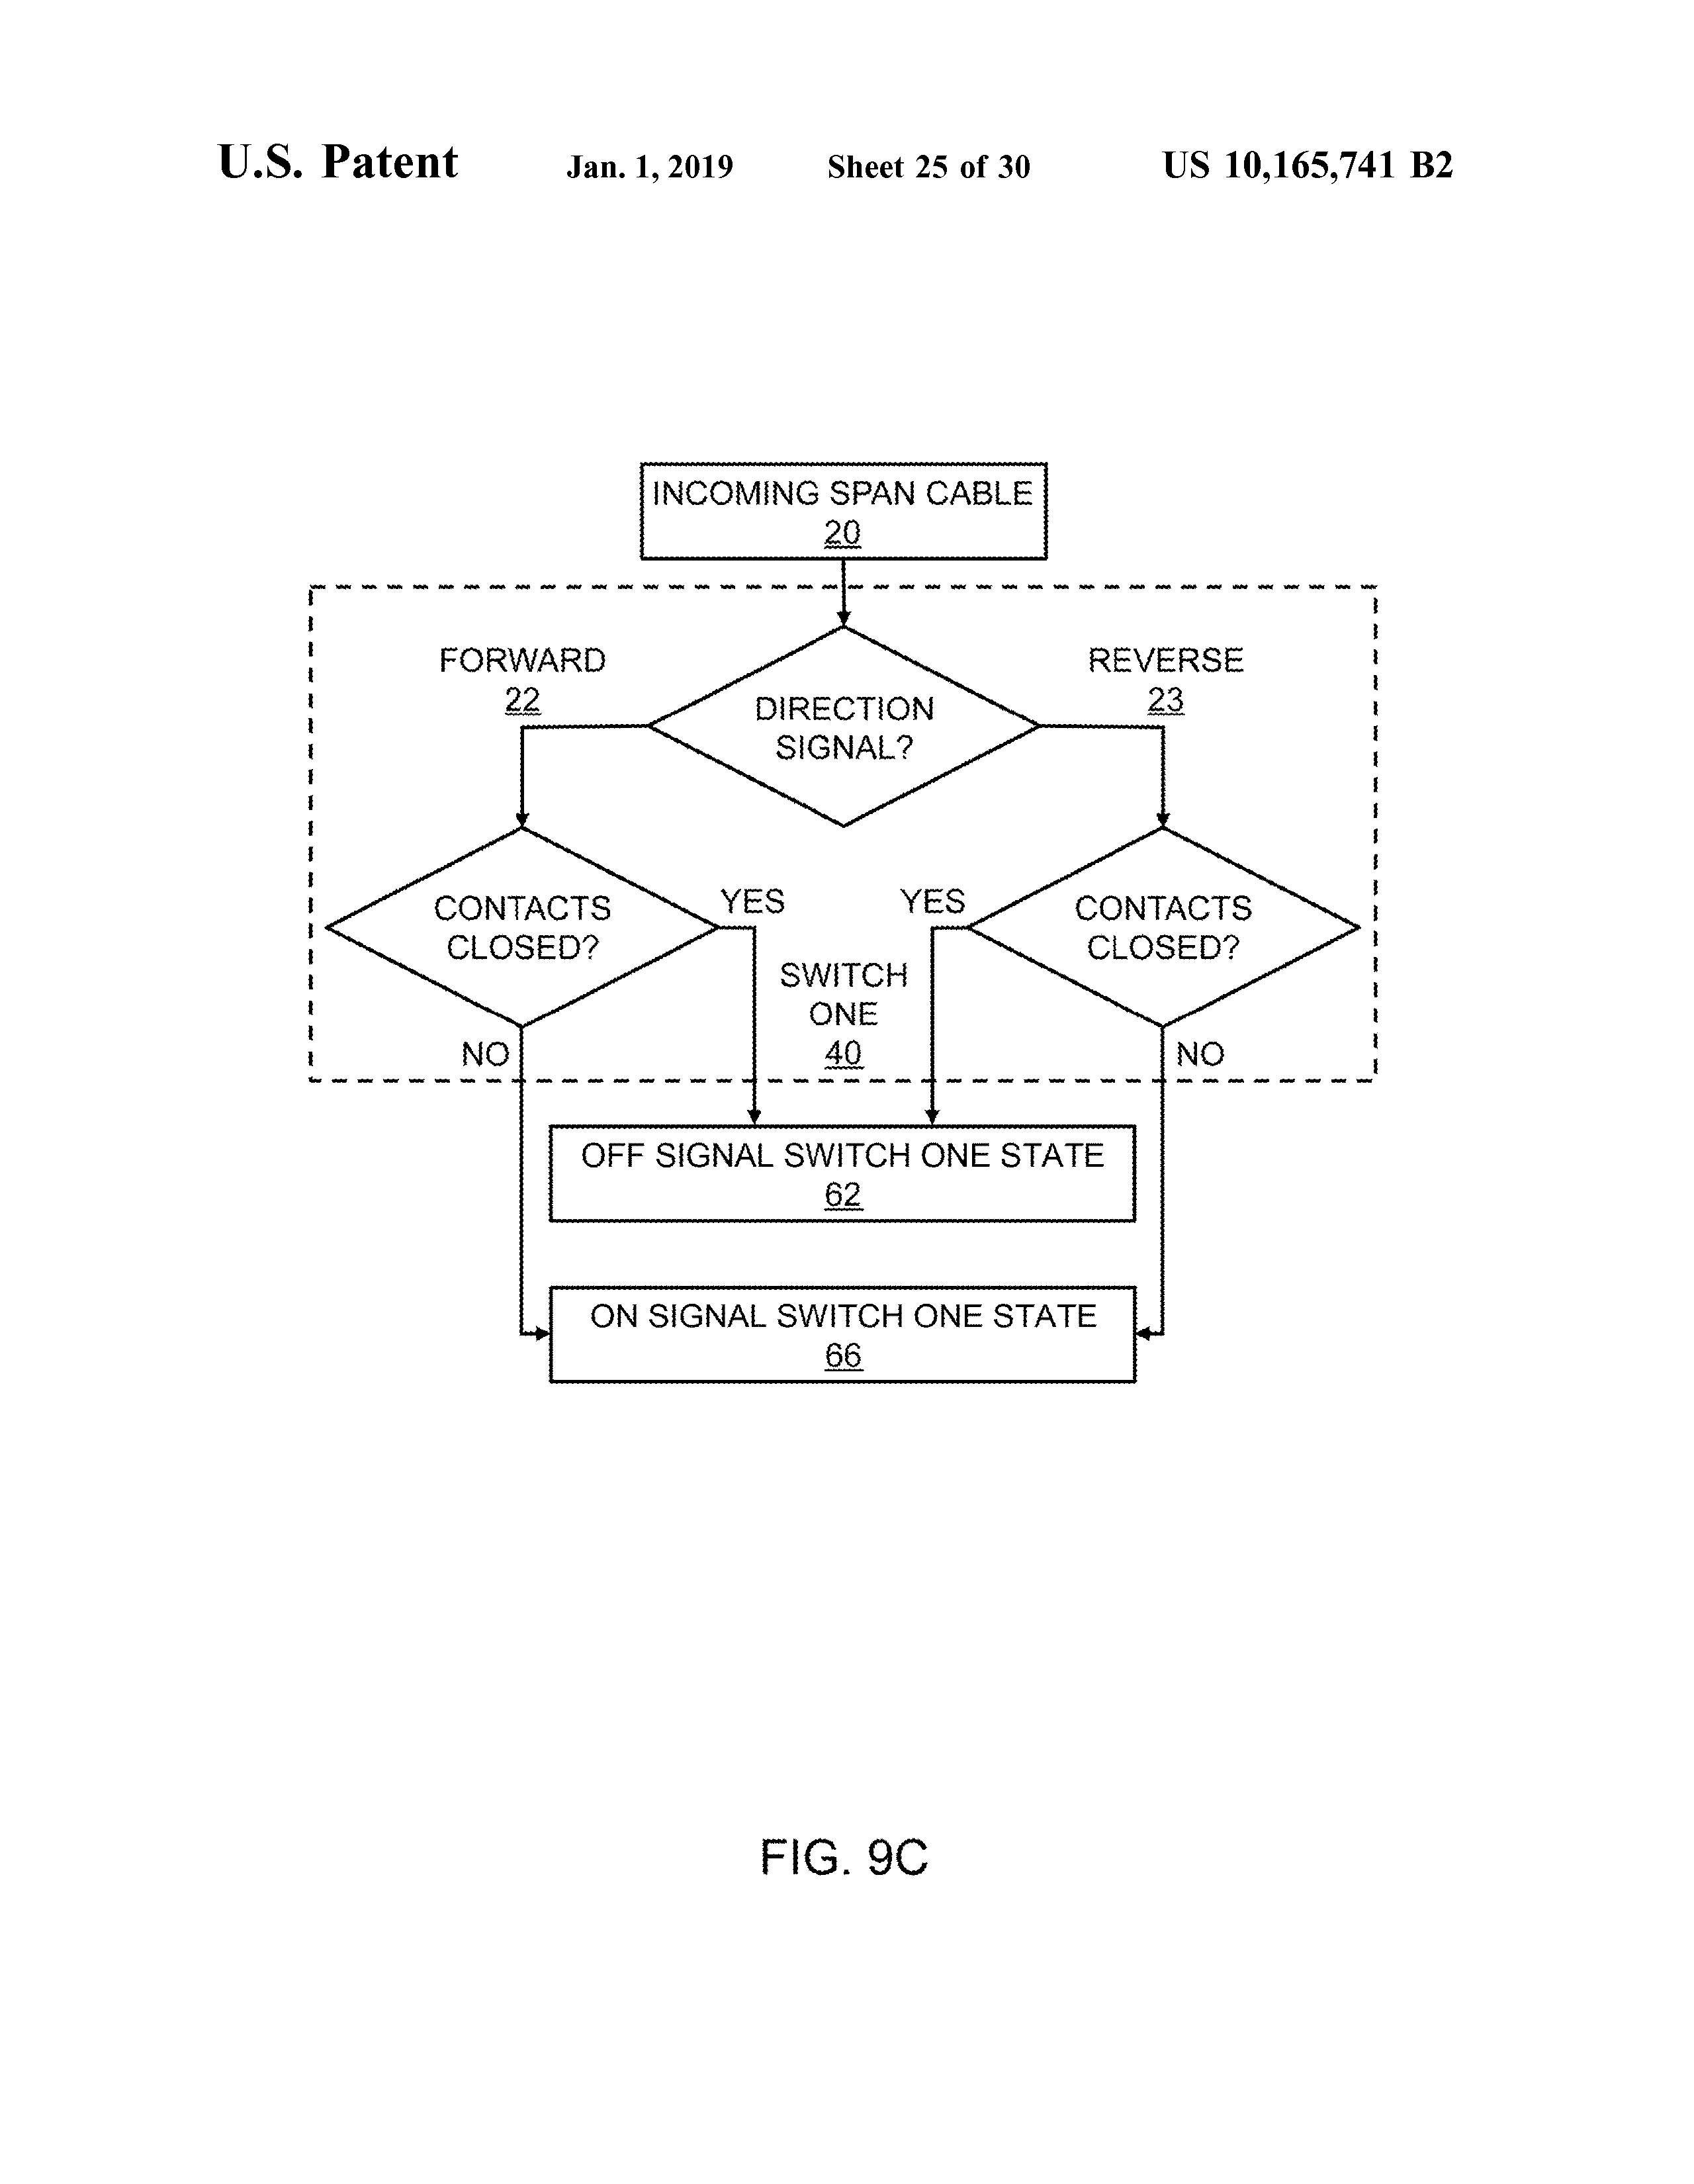patent image: (253, 441, 1394, 1891)
